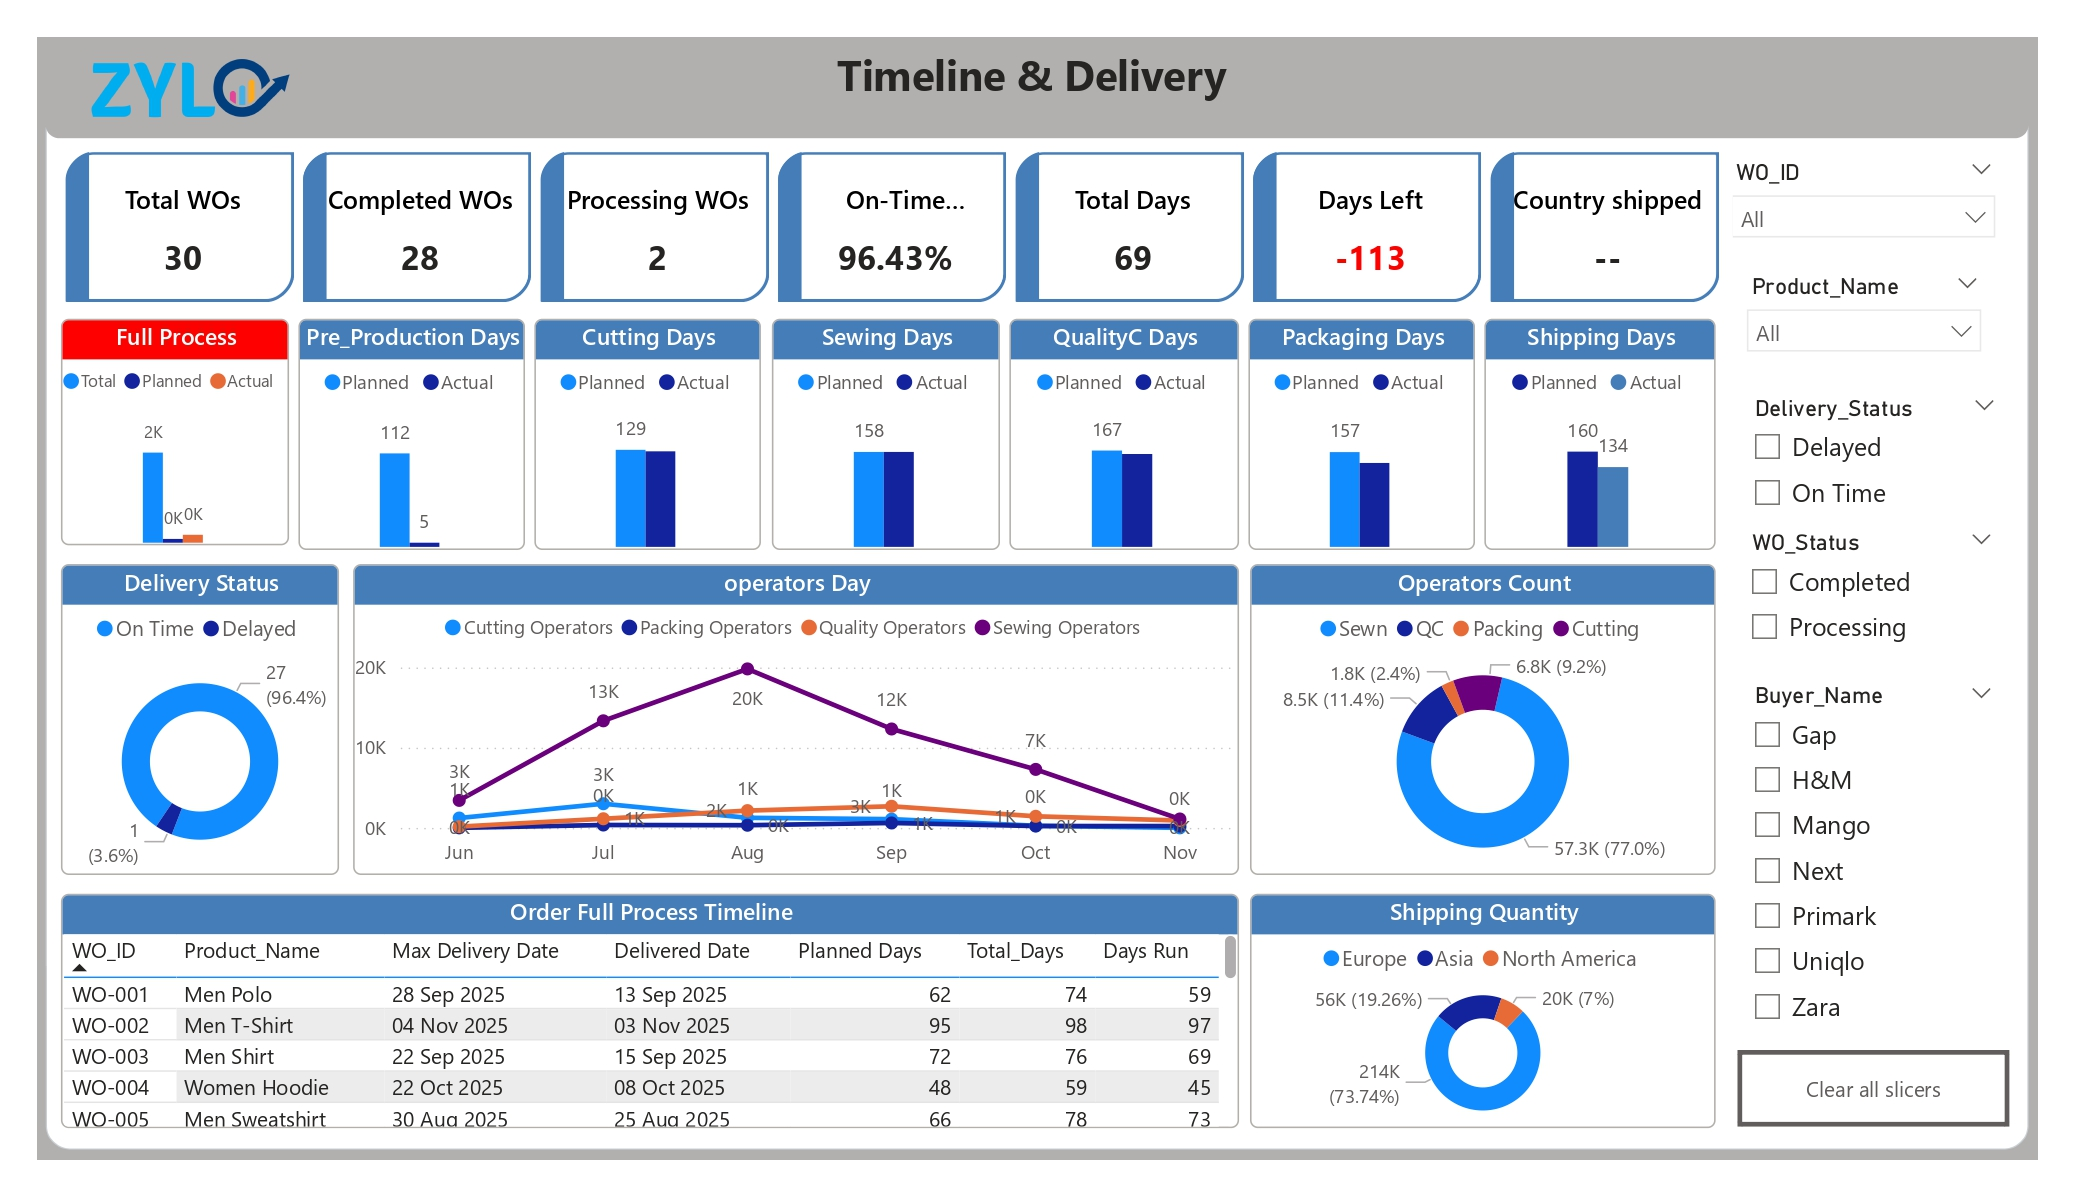

Layout of this report page (visuals, bound fields, positions):
{"tool":"powerbi","page":{"name":"3. Timeline & Delivery ","canvas":[1280,720],"ordinal":2},"visuals":[{"type":"slicer","fields":{"Values":["Fact_WorkOrders.WO_Status"]},"box":[1084.5,310.3,179,88.5],"z":0},{"type":"slicer","fields":{"Values":["Fact_WorkOrders.Delivery_Status"]},"box":[1085.5,224.3,179.1,94.1],"z":1000},{"type":"slicer","fields":{"Values":["Fact_WorkOrders.WO_ID"]},"box":[1074.2,73.4,188.6,73.4],"z":2000},{"type":"slicer","fields":{"Values":["Dim_Product.Product_Name"]},"box":[1084.4,146.4,169.4,66.9],"z":3000},{"type":"slicer","fields":{"Values":["Dim_Buyer.Buyer_Name"]},"box":[1085.5,408,177.3,231.6],"z":4000},{"type":"actionButton","box":[1088.2,647.7,173.7,49.8],"z":5000},{"type":"donutChart","title":"Delivery Status","fields":{"Y":["CountNonNull(Fact_WorkOrders.Delivery_Status)"],"Category":["Fact_WorkOrders.Delivery_Status"]},"box":[14.6,336.7,178.8,199.7],"z":6000},{"type":"tableEx","title":"Order Full Process Timeline","fields":{"Values":["Fact_WorkOrders.WO_ID","Fact_WorkOrders.Product_Name","_Measures_4_Timeline&Delivery.# Max Delivery Date","_Measures_4_Timeline&Delivery.# Last Ship Date Display","_Measures_4_Timeline&Delivery.# Planned Days","Sum(Fact_WorkOrders.Total_Days)","_Measures_4_Timeline&Delivery.# Actual Cycle Time (Days)"]},"box":[14.6,548,754,149.5],"z":7000},{"type":"clusteredColumnChart","title":"Pre_Production Days","fields":{"Y":["_Measures_4_Timeline&Delivery.# Planned Pre_Productin Days","_Measures_4_Timeline&Delivery.# Actual PreProd Days"]},"box":[167.2,179.9,144.5,147.8],"z":8000},{"type":"clusteredColumnChart","title":"Cutting Days","fields":{"Y":["_Measures_4_Timeline&Delivery.# Planned Cutting Days","_Measures_4_Timeline&Delivery.# Actual Cutting Days"]},"box":[317.8,179.9,145.6,147.8],"z":9000},{"type":"clusteredColumnChart","title":"Sewing Days","fields":{"Y":["_Measures_4_Timeline&Delivery.# Planned Sewing Days","_Measures_4_Timeline&Delivery.# Actual Sewing Days"]},"box":[469.5,179.9,146.7,147.8],"z":10000},{"type":"clusteredColumnChart","title":"QualityC Days","fields":{"Y":["_Measures_4_Timeline&Delivery.Planned QC Days","_Measures_4_Timeline&Delivery.# Actual QC Days"]},"box":[622.3,179.9,146.7,147.8],"z":11000},{"type":"clusteredColumnChart","title":"Packaging Days","fields":{"Y":["_Measures_4_Timeline&Delivery.# Planned Packing Days","_Measures_4_Timeline&Delivery.# Actual Packing Days"]},"box":[775.1,179.9,144.5,147.8],"z":12000},{"type":"clusteredColumnChart","title":"Shipping Days","fields":{"Y":["_Measures_4_Timeline&Delivery.# Planned Shipping Days","_Measures_4_Timeline&Delivery.# Actual Shipping Days"]},"box":[925.8,179.9,147.8,147.8],"z":13000},{"type":"cardVisual","fields":{"Data":["_Measures_0_Global.# Total WOs","_Measures_2_WO.# Completed WOs","_Measures_2_WO.# Processing WOs","_Measures_4_Timeline&Delivery.# On-Time Delivery % (Completed Only)","_Measures_4_Timeline&Delivery.# Total Days","_Measures_4_Timeline&Delivery.# Days Left","_Measures_4_Timeline&Delivery.# Shipping Country"]},"box":[12.5,67.5,1072.5,106.2],"z":14000},{"type":"lineChart","title":"operators Day","fields":{"Y":["_Measures_2_WO.# Total Cutting Operators","_Measures_2_WO.# Total Packing Operators","_Measures_2_WO.# Total Quality Operators","_Measures_2_WO.# Total Sewing Operators"],"Category":["Fact_Process.Short Month"]},"box":[201.8,336.7,566.8,199.7],"z":15000},{"type":"donutChart","title":"Operators Count","fields":{"Y":["_Measures_2_WO.# Total Sewing Operators","_Measures_2_WO.# Total Quality Operators","_Measures_2_WO.# Total Packing Operators","_Measures_2_WO.# Total Cutting Operators"]},"box":[775.9,336.7,298,199.7],"z":16000},{"type":"clusteredColumnChart","title":"Full Process","fields":{"Y":["Sum(Fact_WorkOrders.Total_Days)","_Measures_4_Timeline&Delivery.# Planned Days","_Measures_4_Timeline&Delivery.# Actual Cycle Time (Days)"]},"box":[14.6,179.9,146.4,145.4],"z":17000},{"type":"donutChart","title":"Shipping Quantity ","fields":{"Category":["Dim_destination.Region"],"Y":["_Measures_0_Global.# Total Shipped Quantity"]},"box":[776,548,298,150],"z":18000},{"type":"textbox","box":[344.3,0,591.4,60],"z":19000}]}

Visuals, with their boxes on the page's 1280x720 design canvas (x1, y1, x2, y2). These are canvas units, not pixel positions in the 2075x1200 screenshot, which may show the page scaled, cropped or inside an application window:
slicer - Fact_WorkOrders.WO_Status: (1084,310,1264,399)
slicer - Fact_WorkOrders.Delivery_Status: (1086,224,1265,318)
slicer - Fact_WorkOrders.WO_ID: (1074,73,1263,147)
slicer - Dim_Product.Product_Name: (1084,146,1254,213)
slicer - Dim_Buyer.Buyer_Name: (1086,408,1263,640)
actionButton: (1088,648,1262,698)
"Delivery Status" donutChart: (15,337,193,536)
"Order Full Process Timeline" tableEx: (15,548,769,698)
"Pre_Production Days" clusteredColumnChart: (167,180,312,328)
"Cutting Days" clusteredColumnChart: (318,180,463,328)
"Sewing Days" clusteredColumnChart: (470,180,616,328)
"QualityC Days" clusteredColumnChart: (622,180,769,328)
"Packaging Days" clusteredColumnChart: (775,180,920,328)
"Shipping Days" clusteredColumnChart: (926,180,1074,328)
cardVisual - _Measures_0_Global.# Total WOs x _Measures_2_WO.# Completed WOs: (12,68,1085,174)
"operators Day" lineChart: (202,337,769,536)
"Operators Count" donutChart: (776,337,1074,536)
"Full Process" clusteredColumnChart: (15,180,161,325)
"Shipping Quantity " donutChart: (776,548,1074,698)
textbox: (344,0,936,60)
